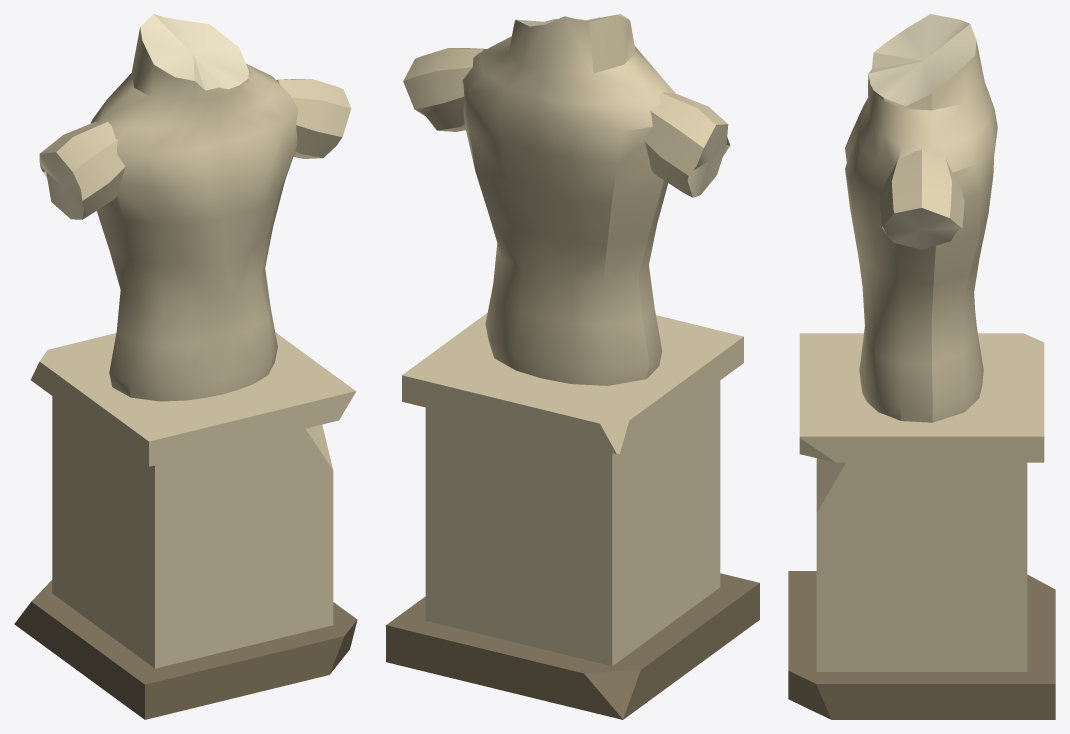
Rendered from statue-1.glb.
3 views of the same model, side by side, from view 1: azimuth 30°, elevation 25°; view 2: azimuth 150°, elevation 25°; view 3: azimuth 270°, elevation 25° (orthographic). The views are drawn at different scales.
Parts seen in each view (by area): view 1: statue-1; view 2: statue-1; view 3: statue-1.
Part boxes in pixels (x1,y1,x2,y2): statue-1: (14, 14, 357, 719); statue-1: (386, 14, 759, 719); statue-1: (788, 14, 1055, 719).
Bounding box in the file's own units: 1.2 × 2.45 × 0.9395.
